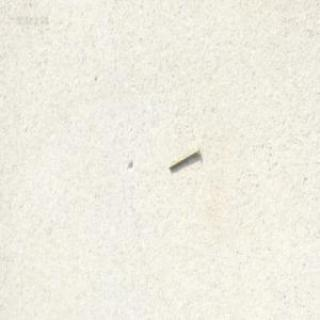Bolttrack_idkeyframe: (167, 144, 199, 170)
